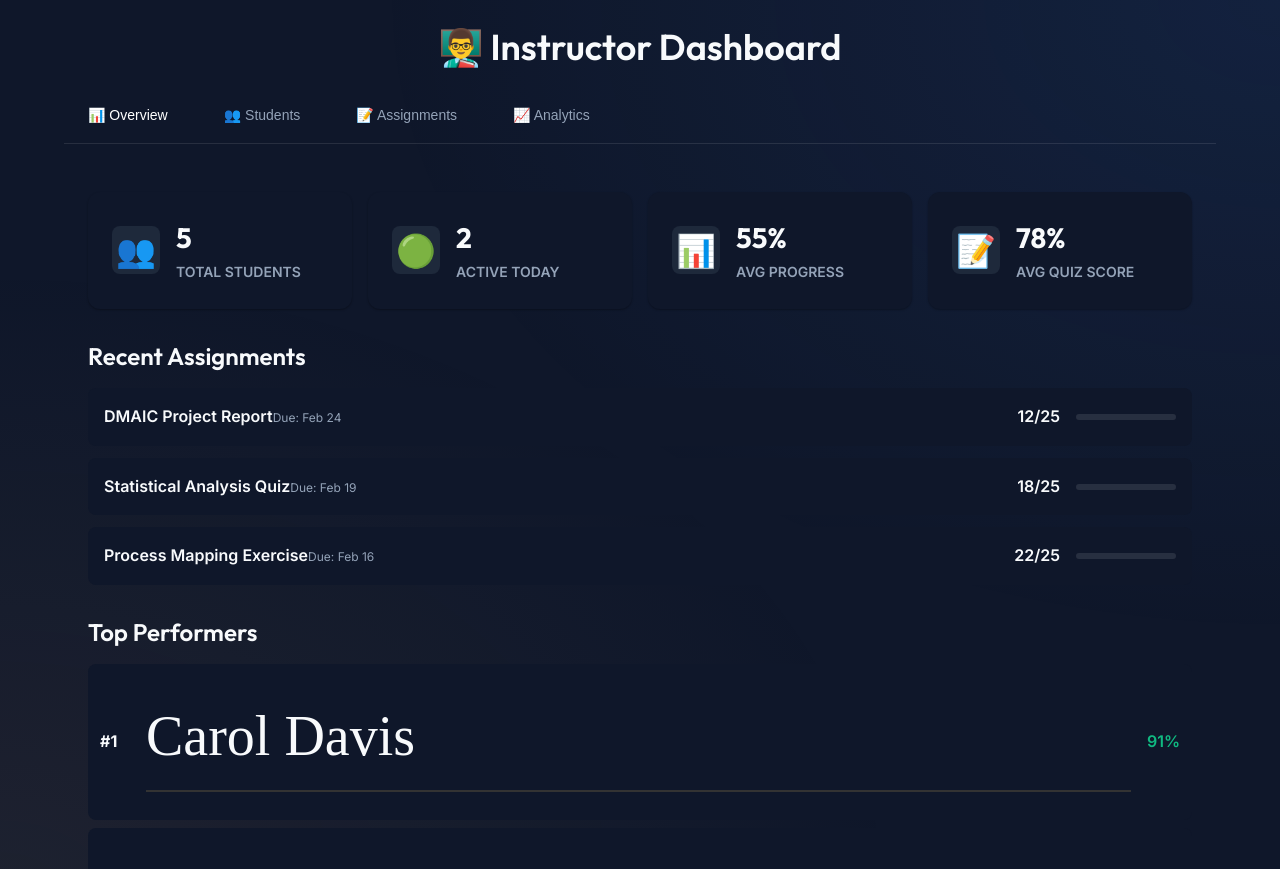
Scenario: InstructorDashboard › switches to analytics tab when clicked
What coordinates should you click on to do the following:
click the button "📈 Analytics"
I would click on:
 (551, 115)
Its box is [489,95,614,135].
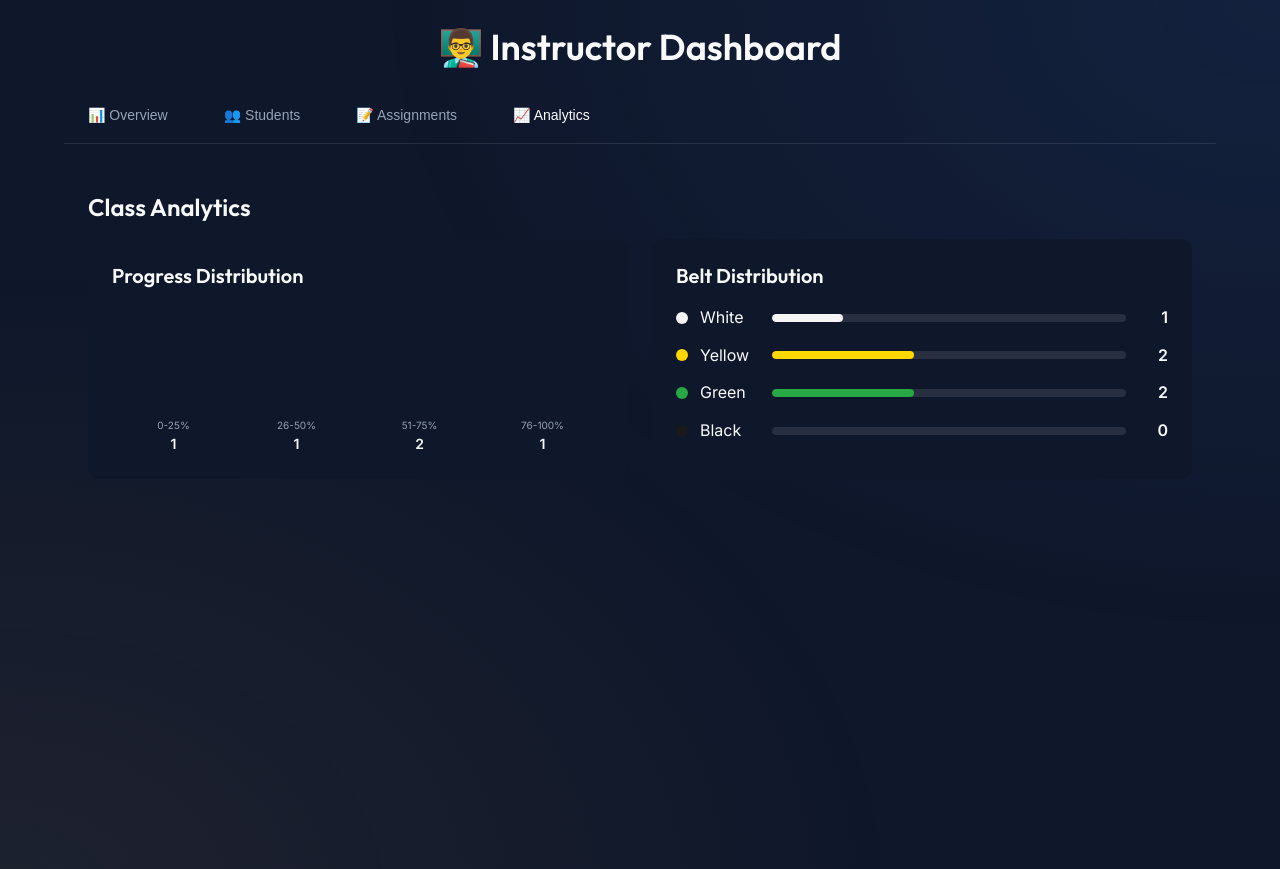
expect the heading "Class Analytics" is shown: met, box [88,192,251,222]
